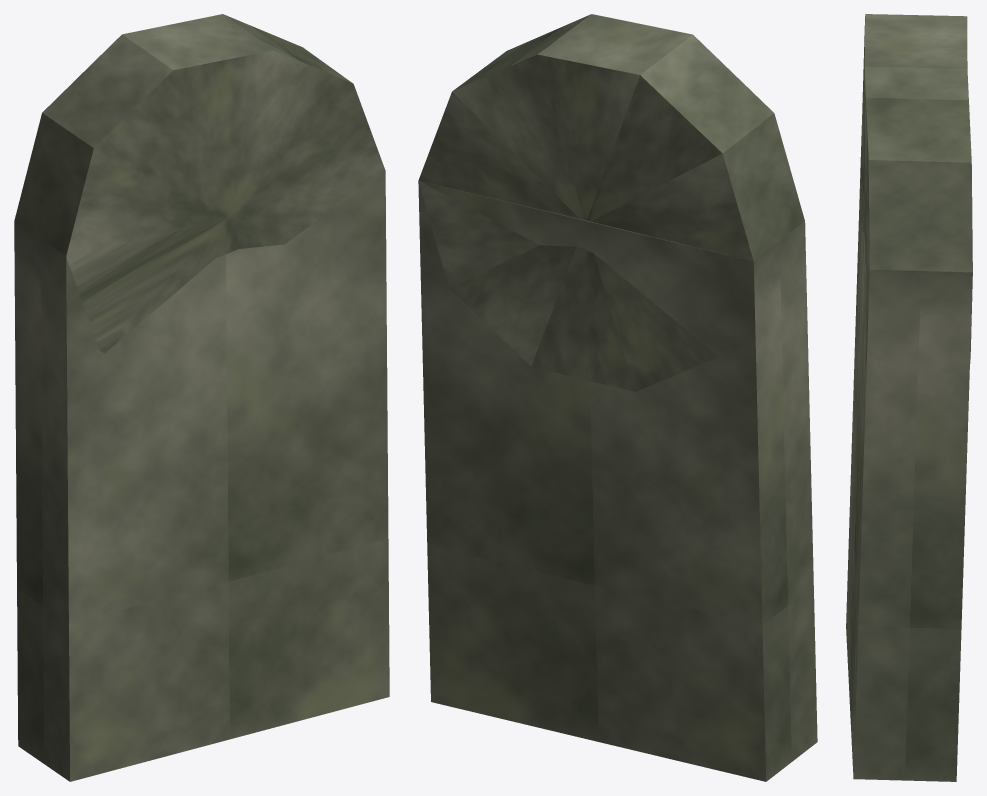
Rendered from Gravestone_1.gltf.
The picture shows the model from 3 angles, left to right: view 1: azimuth 30°, elevation 25°; view 2: azimuth 150°, elevation 25°; view 3: azimuth 270°, elevation 25°; orthographic projection. The views are drawn at different scales.
Parts seen in each view (by area): view 1: Gravestone_1; view 2: Gravestone_1; view 3: Gravestone_1.
Boxes of the visible parts, x1,y1,x2,y2 form: Gravestone_1: (14,14,389,781); Gravestone_1: (418,14,817,781); Gravestone_1: (846,14,972,781).
Bounding box in the file's own units: 0.6643 × 1.31 × 0.2246.
Materials: 1 (1 with a texture image).
